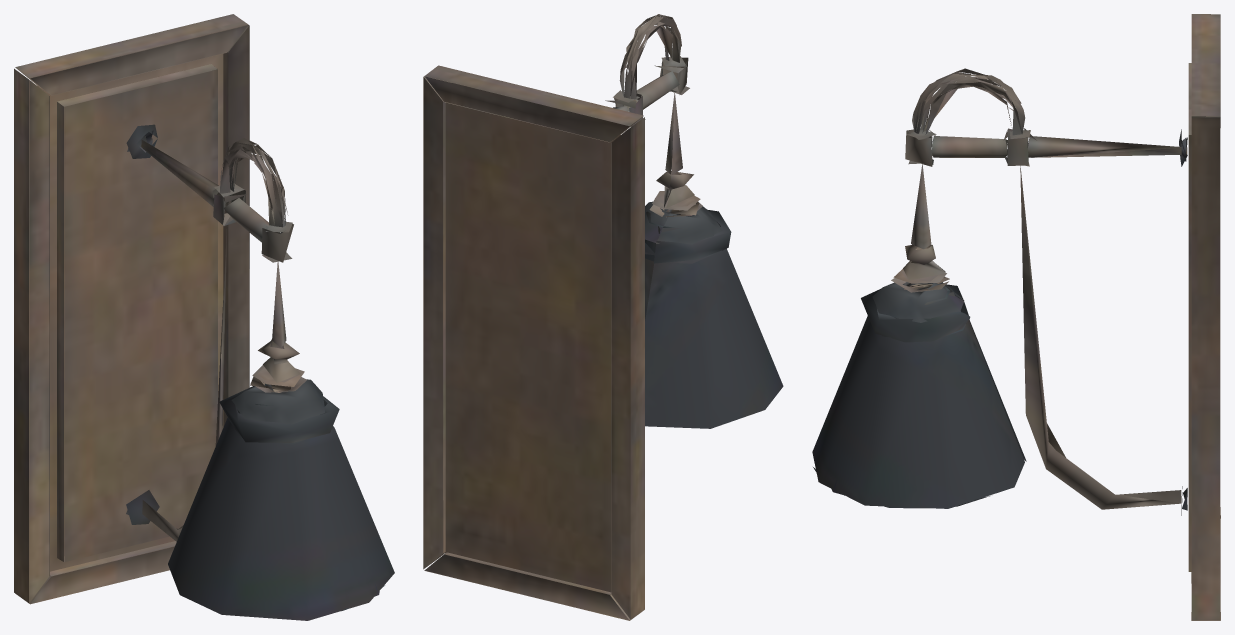
File: industrial_wall_sconce.glb
3 renders of one model, left to right at view 1: azimuth 30°, elevation 25°; view 2: azimuth 150°, elevation 25°; view 3: azimuth 270°, elevation 25°, orthographic. The views are drawn at different scales.
Parts seen in each view (by area): view 1: industrial_wall_sconce; view 2: industrial_wall_sconce; view 3: industrial_wall_sconce.
Boxes of the visible parts, <box> form: industrial_wall_sconce: <box>14,14,394,620</box>; industrial_wall_sconce: <box>423,14,783,620</box>; industrial_wall_sconce: <box>812,14,1220,620</box>.
Size of the model in its own units: 0.15 by 0.3419 by 0.2508.
2 materials, 2 textured.
